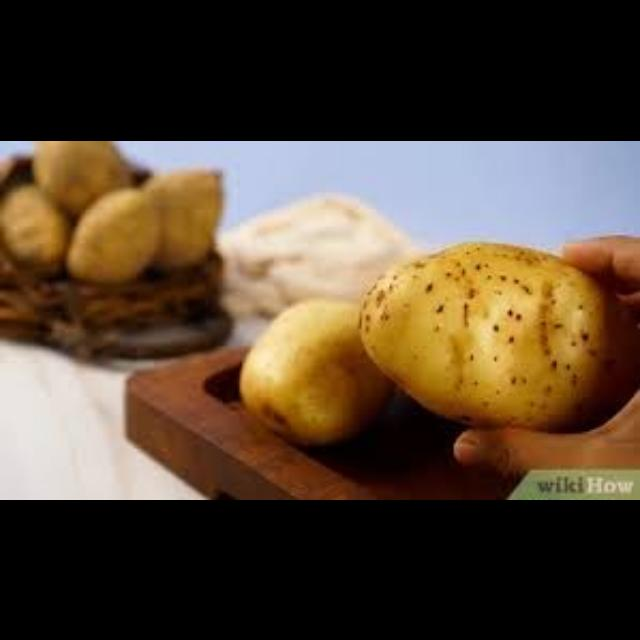Diseased-fungal potato: (350, 228, 634, 440)
Potato: (232, 289, 396, 449)
